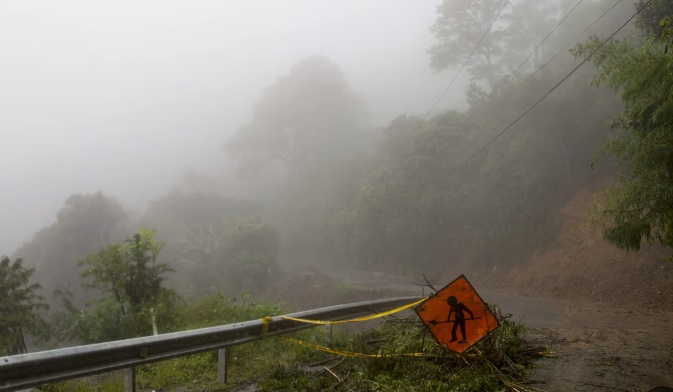Work in Progress: (396, 268, 509, 361)
